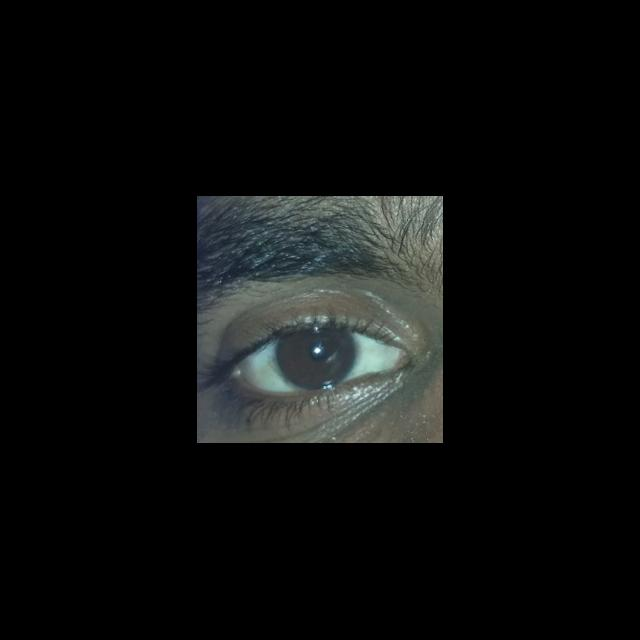eye: (238, 329, 401, 395)
iris: (275, 330, 356, 390)
